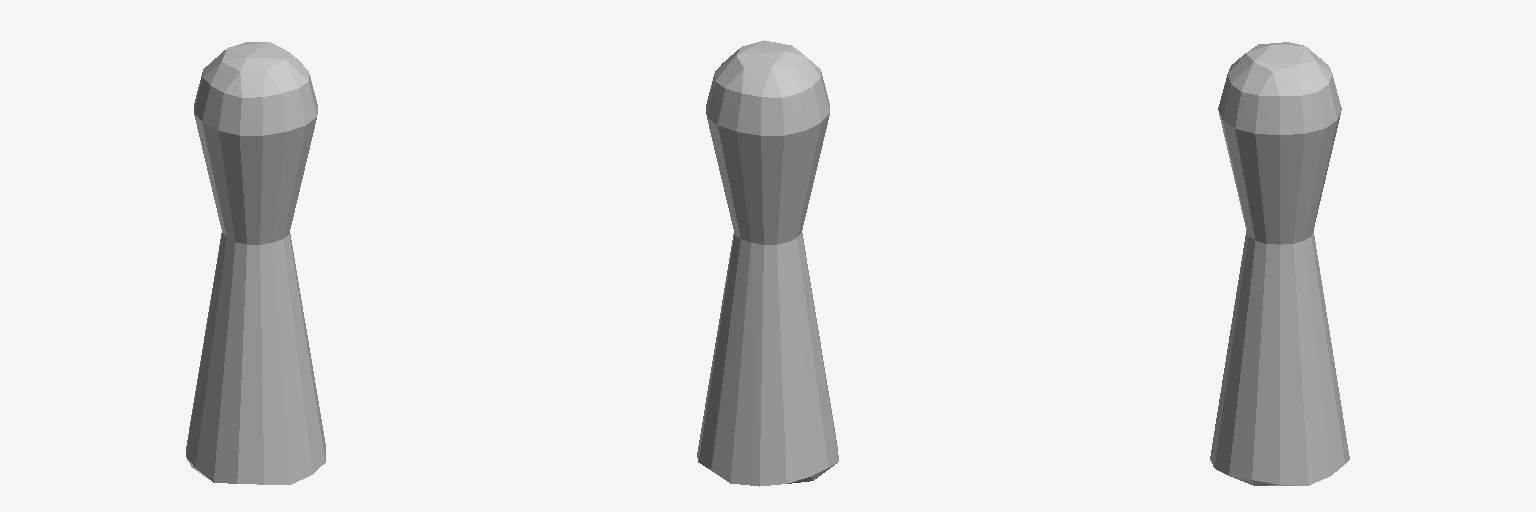
The model's file is KeyHole.obj.
3 renders of one model, left to right at view 1: azimuth 30°, elevation 25°; view 2: azimuth 150°, elevation 25°; view 3: azimuth 270°, elevation 25°, orthographic.
Visible parts, largest first — view 1: 鍵穴; view 2: 鍵穴; view 3: 鍵穴.
Part boxes in pixels (x1,y1,x2,y2): 鍵穴: (186, 42, 325, 484); 鍵穴: (697, 40, 838, 486); 鍵穴: (1210, 42, 1349, 485).
Bounding box in the file's own units: 0.0703 × 0.2272 × 0.0703.